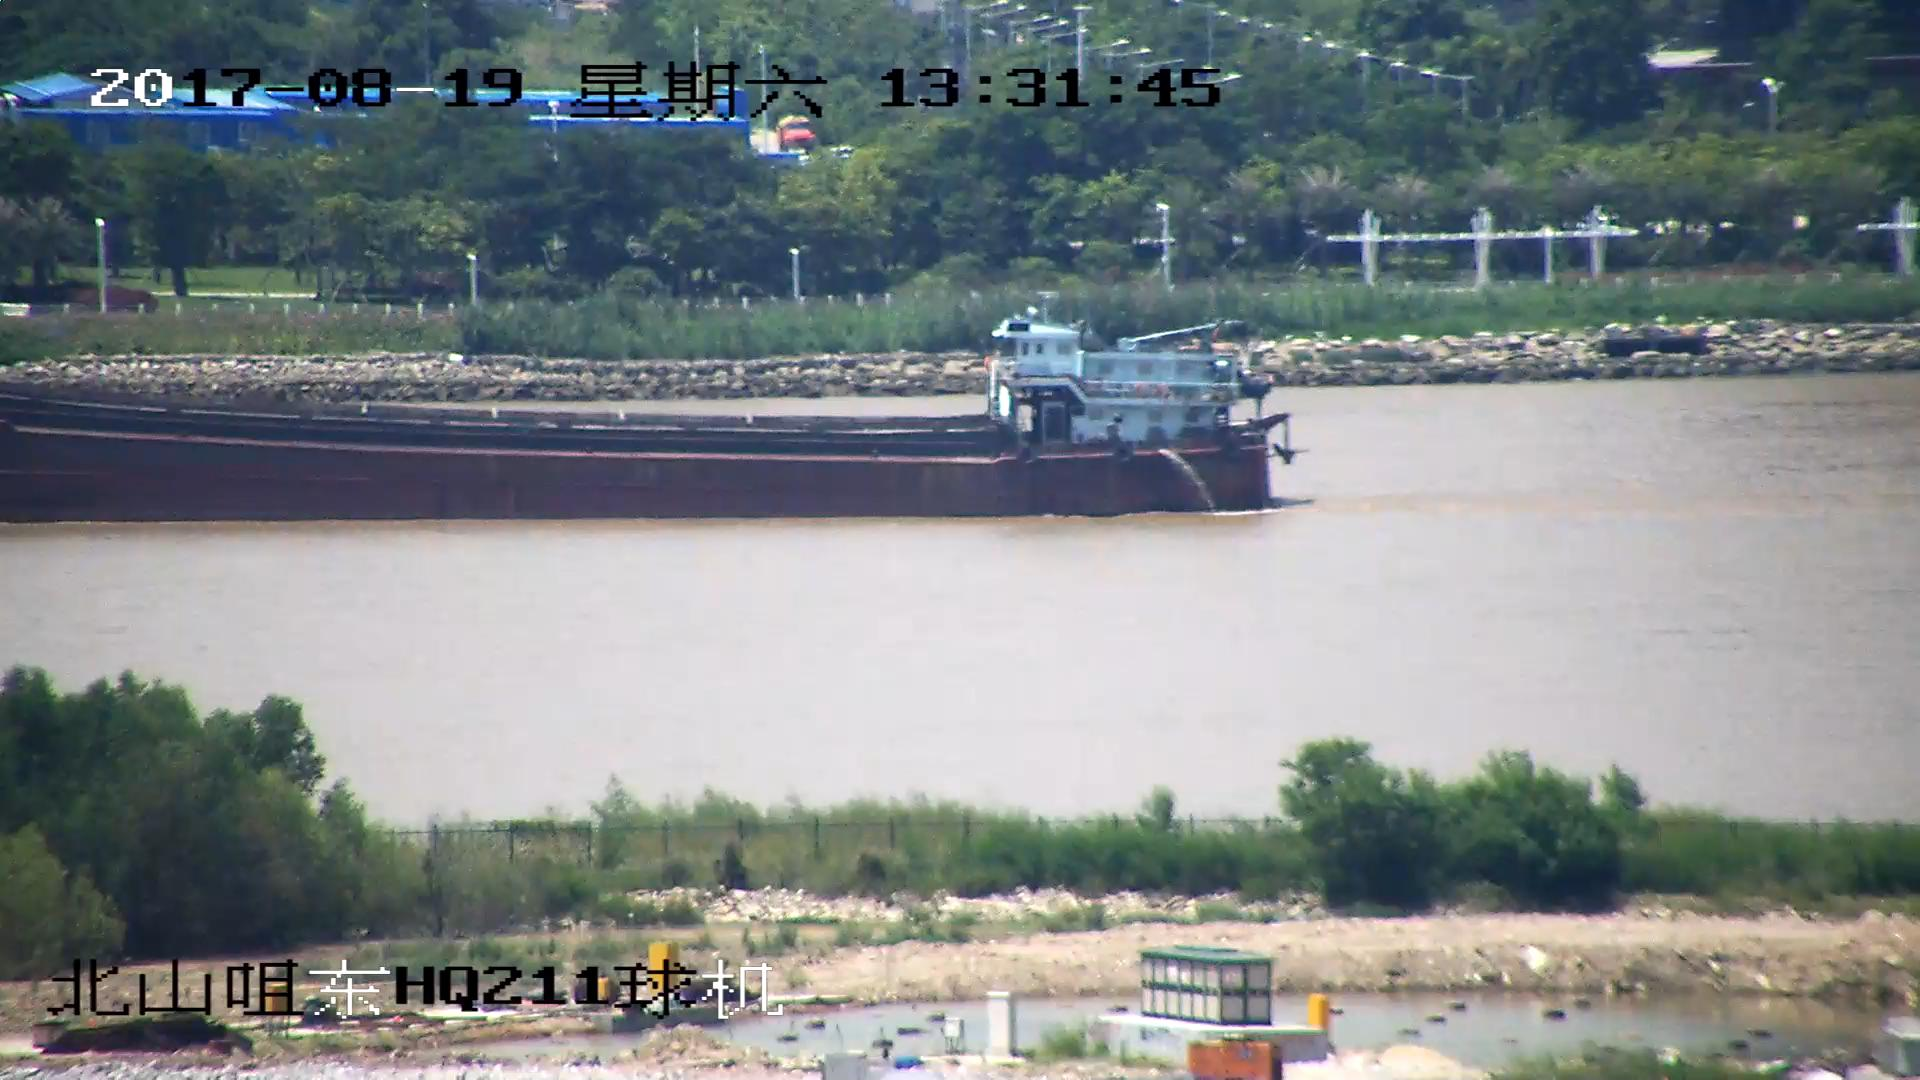bulk cargo carrier: (1, 295, 1289, 517)
